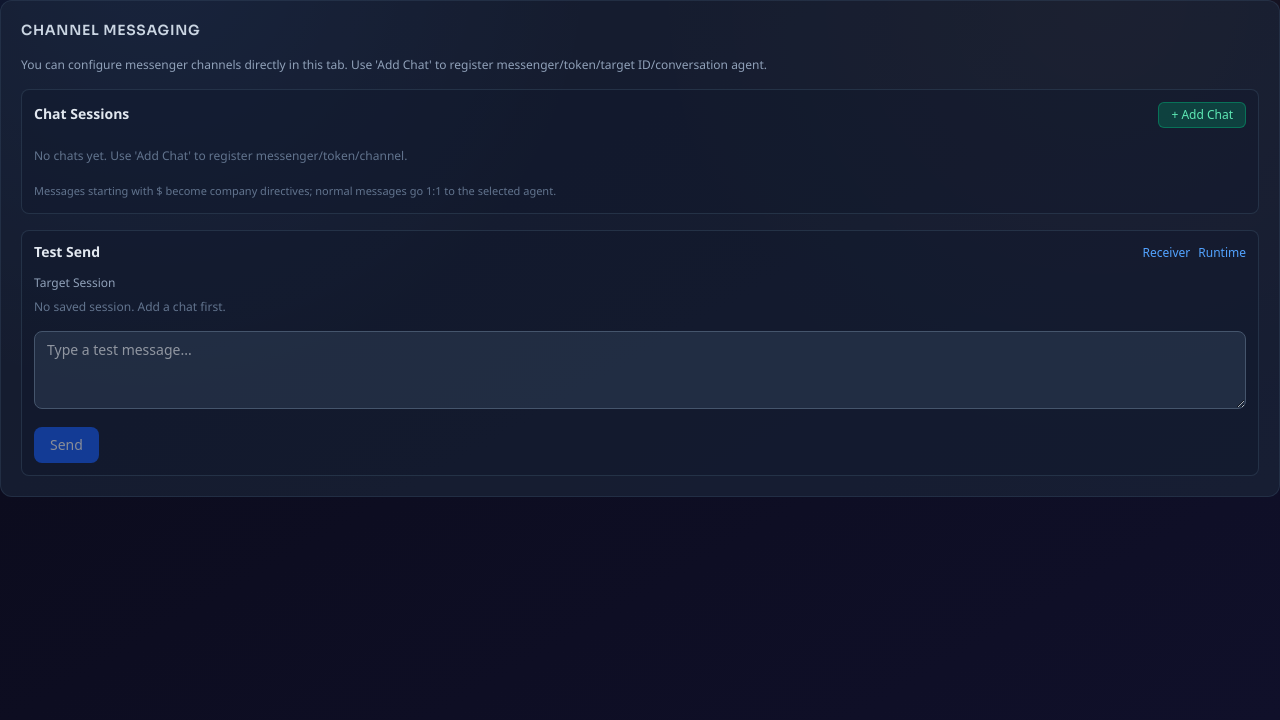
Test case: GatewaySettingsTab characterization › loads Discord channels automatically when token is entered in chat editor
The image size is (1280, 720).
Click the button "+ Add Chat". click: [1202, 115]
box: left=1158, top=102, right=1246, bottom=128
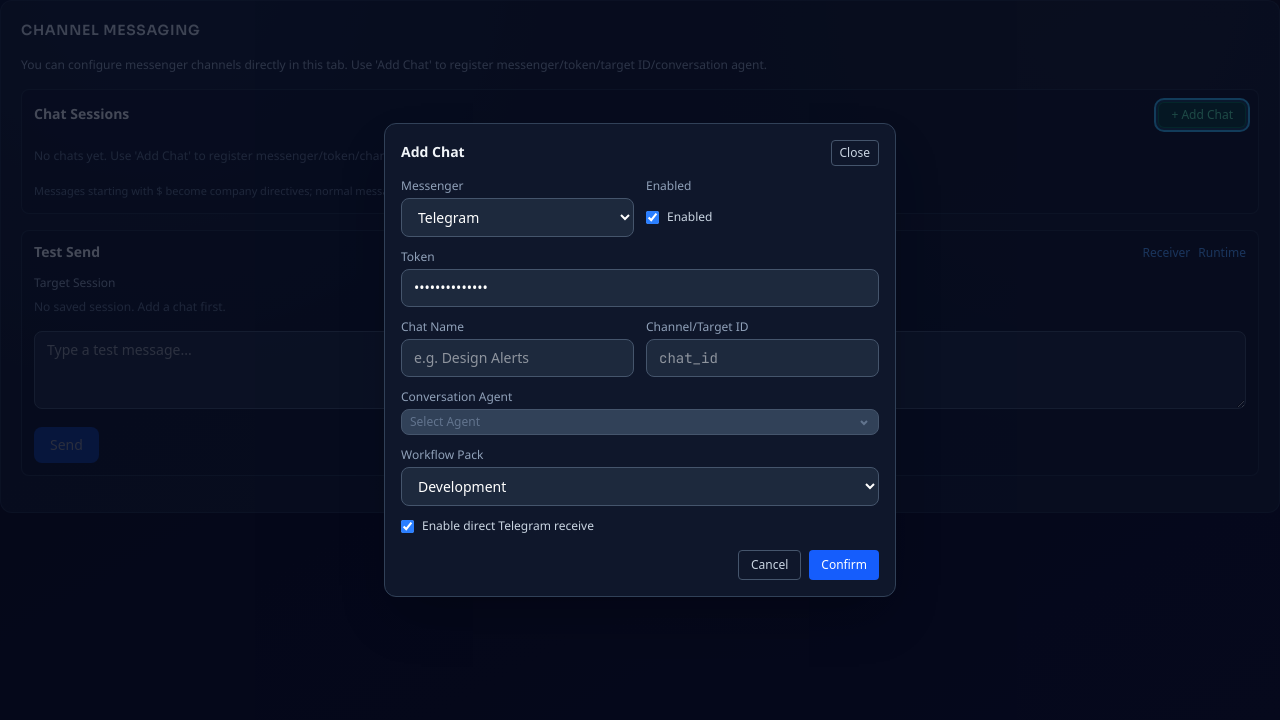
Select "Discord" in the 1st dropdown. click: [518, 218]
box: left=401, top=198, right=634, bottom=237
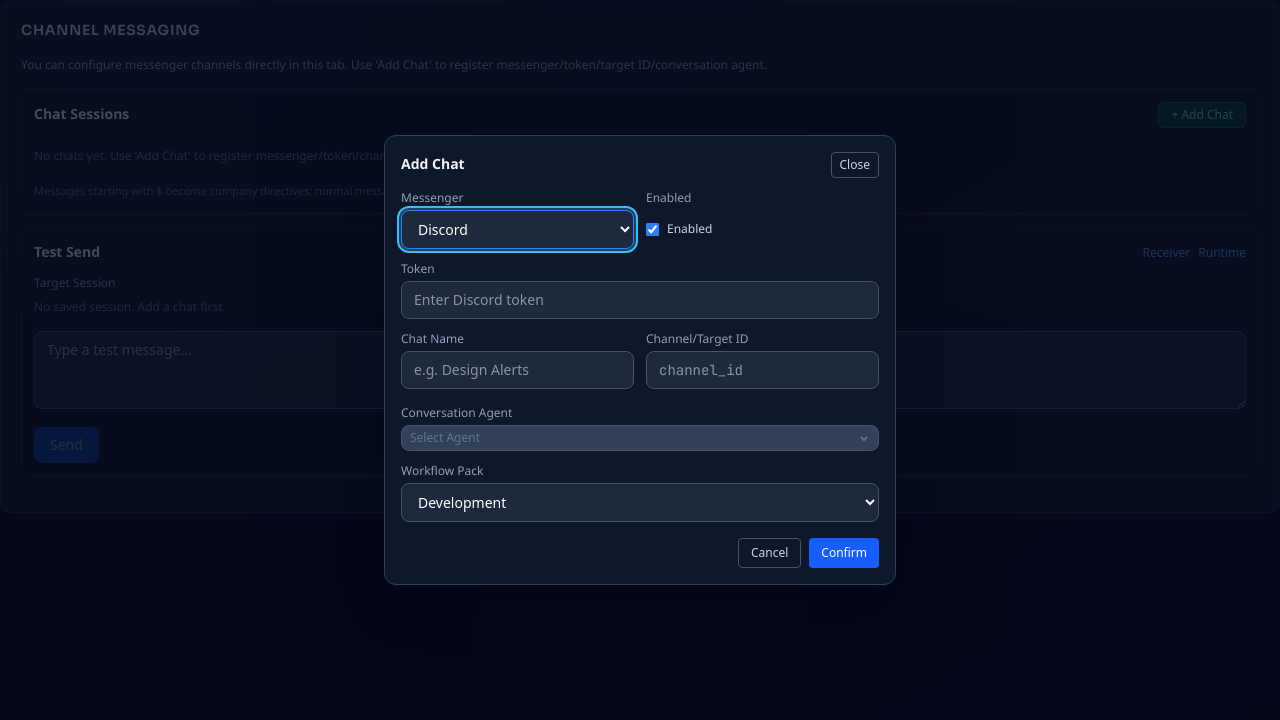
Type "discord-test-token" into the password field with placeholder "Enter Discord token". click: [640, 300]
box: left=401, top=281, right=879, bottom=319
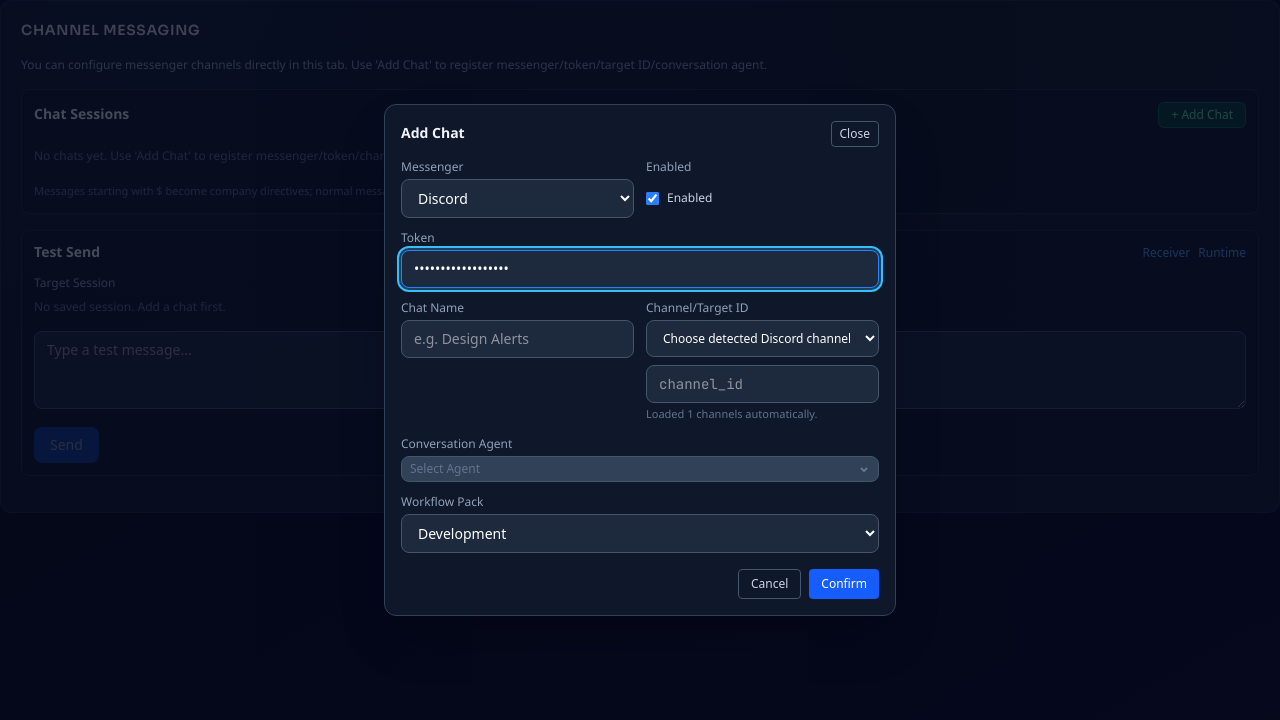
Expected: the text "Loaded 1 channels automatically." is shown, left=646, top=407, right=818, bottom=422
